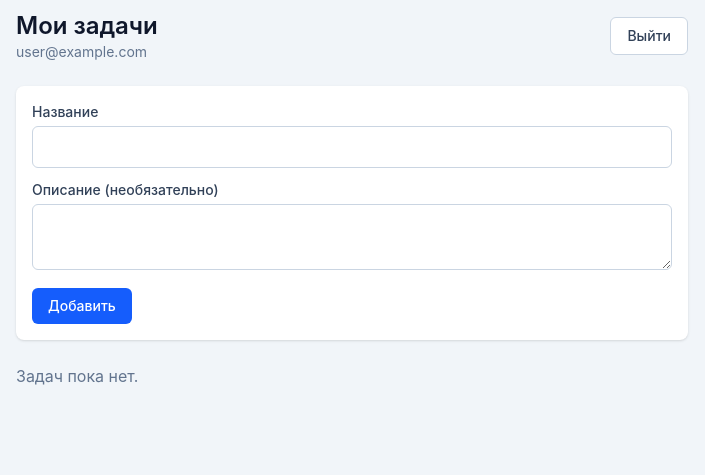
Test case: Frontend › 39. Frontend создаёт задачу и отображает её
The image size is (705, 475).
expect the text "Задач пока нет." is shown: met, box [16,366,138,386]
Type "Купить хлеб" into the field labelled "Название" at [352, 147], box [32,126,672,168]
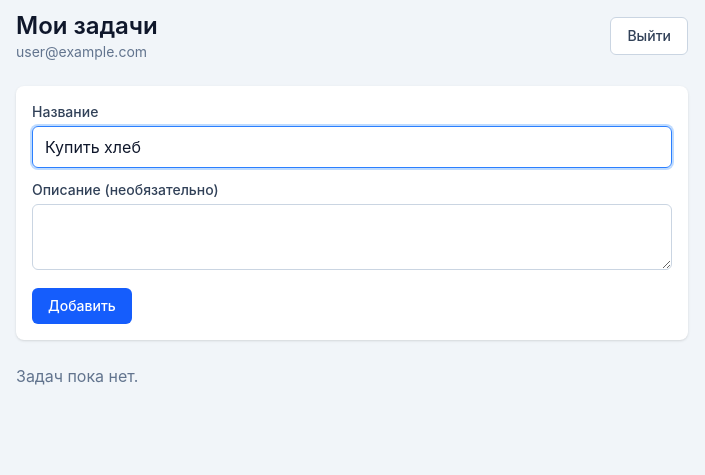
Type "Чёрный" into the text box labelled "Описание (необязательно)" at [352, 237], box [32,204,672,270]
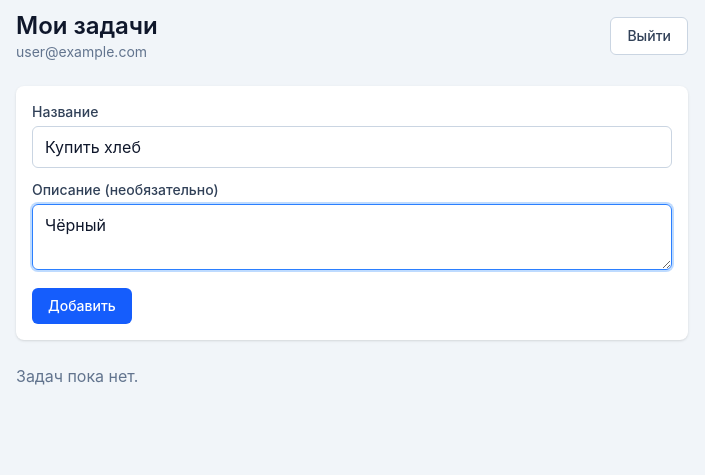
Click the button "Добавить" at [82, 306], box [32,288,132,324]
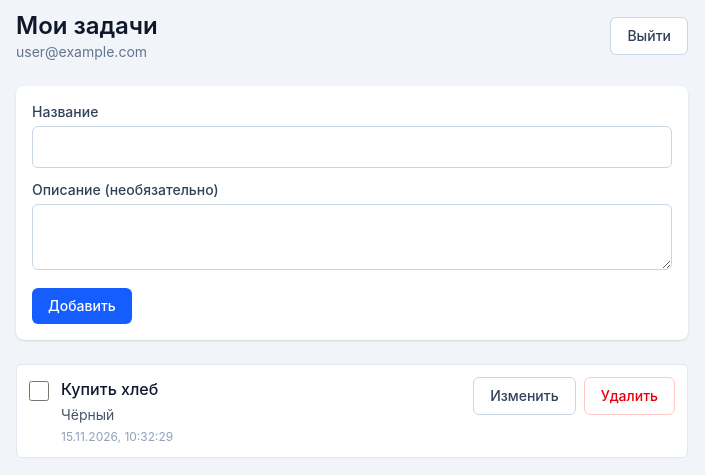
expect the text "Чёрный" is shown: met, box [61,406,114,423]
expect the field labelled "Название" is empty: met, box [32,126,672,168]
